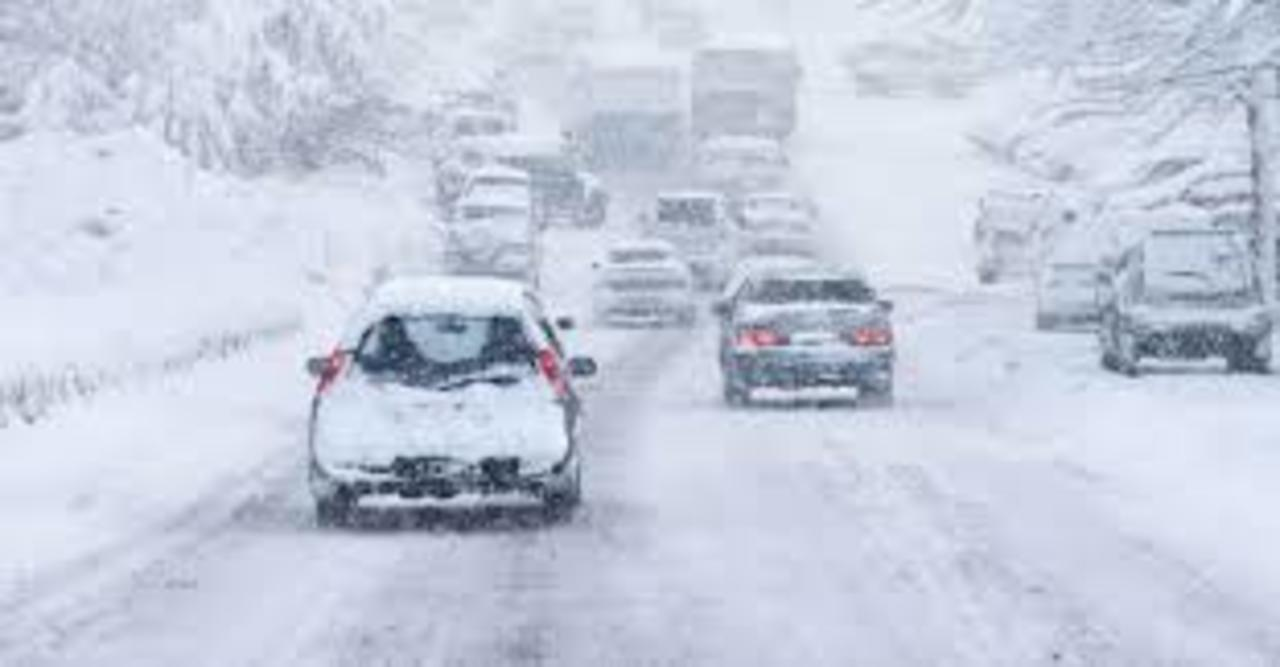car: (306, 276, 592, 529), (1094, 227, 1274, 373), (706, 270, 896, 407), (438, 141, 607, 224), (1034, 221, 1124, 333), (592, 251, 697, 332), (436, 206, 535, 276), (739, 193, 828, 261), (642, 194, 738, 257), (697, 136, 789, 189), (458, 172, 539, 231), (441, 109, 511, 146)
